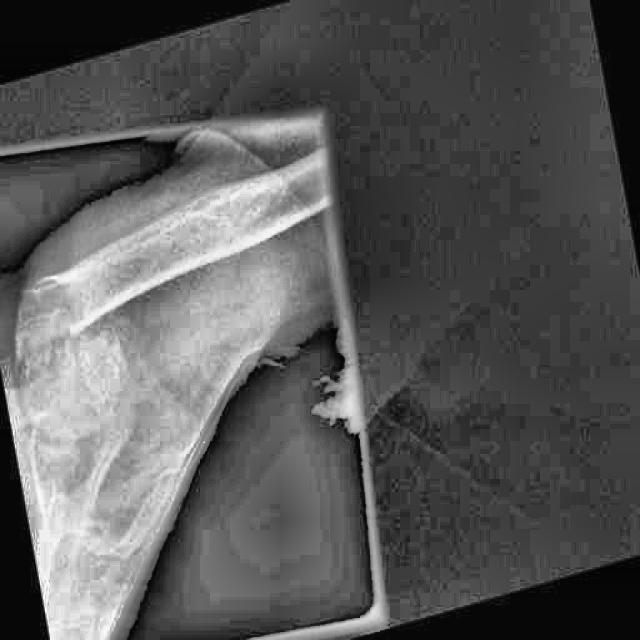shoulder fracture: (3, 234, 154, 433)
